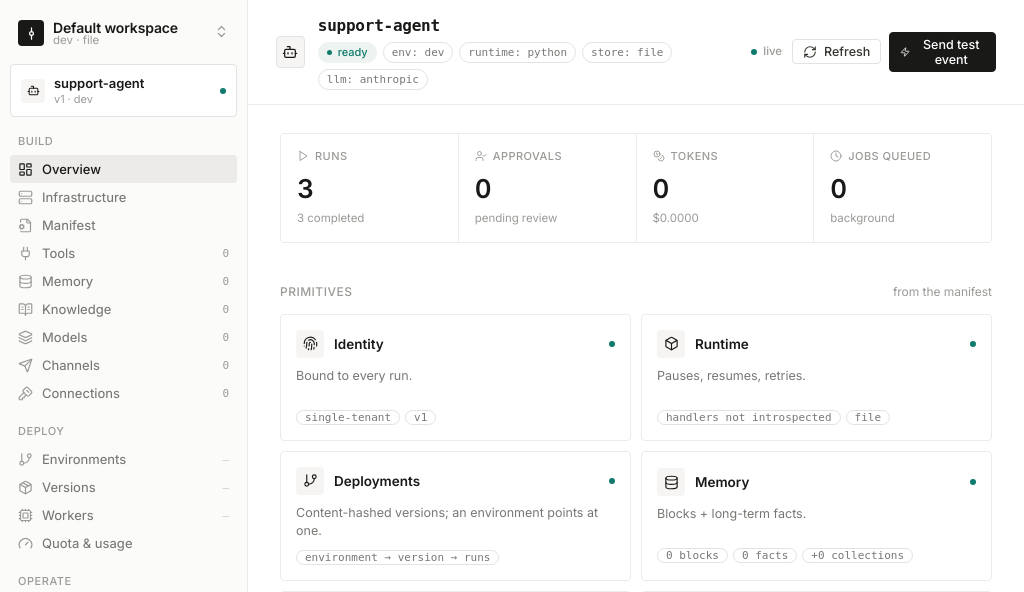
Test: a runtime that stops answering (§5.9) › says nothing extra about a single missed poll
Expected: the text "live" is shown, [763,43,782,61]
Click the button "Refresh" at [837, 52], box [792,39,881,64]
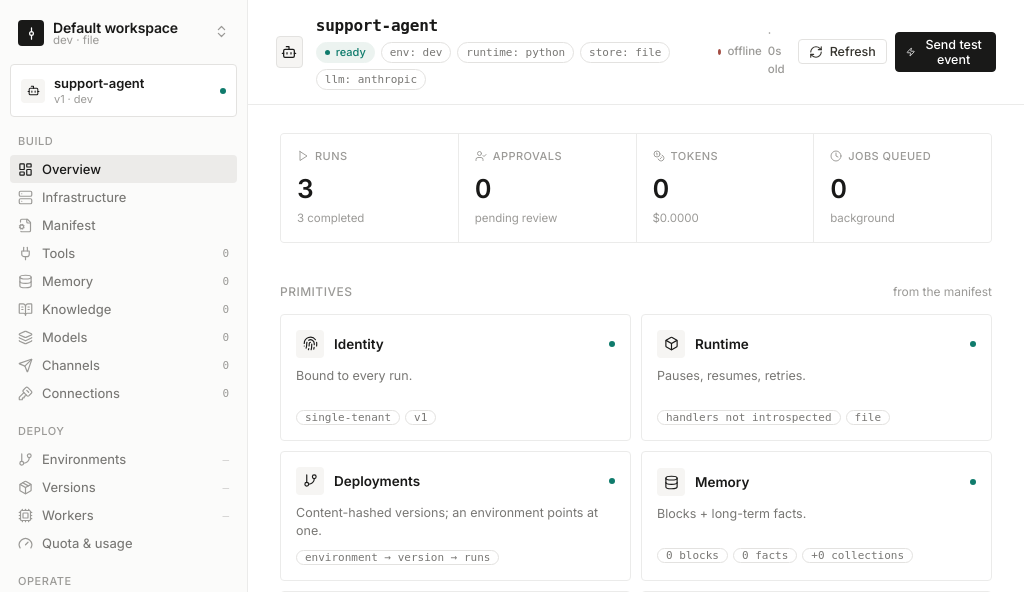
Expected: the text "offline" is shown, [727,43,762,61]
